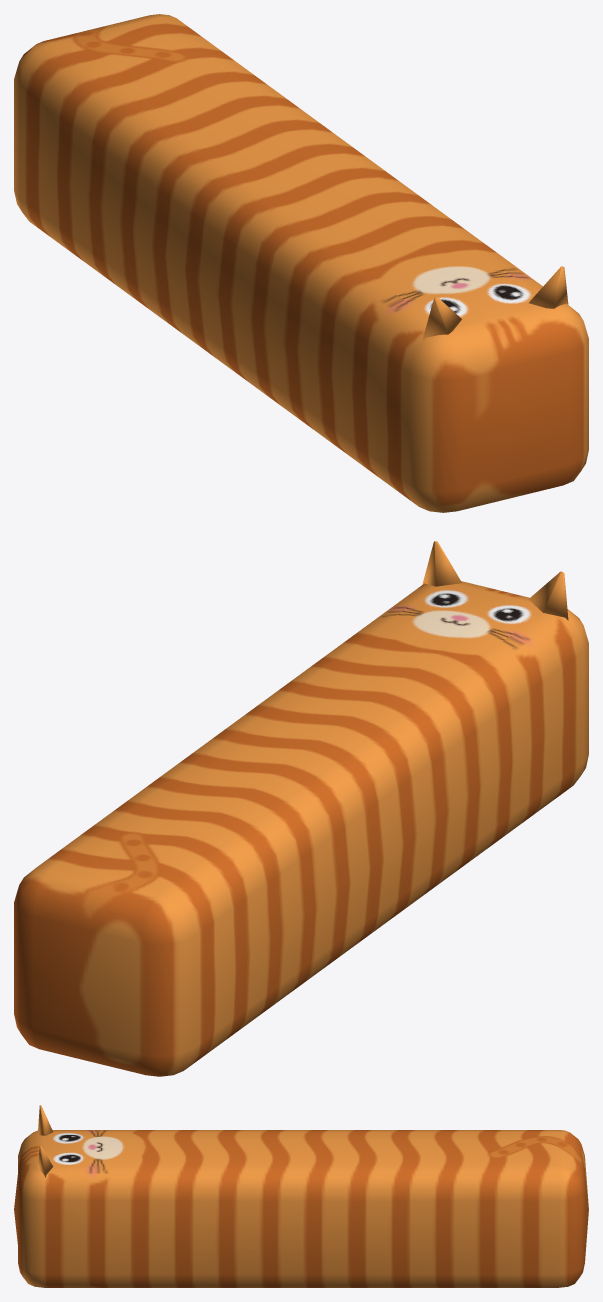
Rendered from Cat_4x1.fbx.
3 renders of one model, top to bottom at view 1: azimuth 30°, elevation 25°; view 2: azimuth 150°, elevation 25°; view 3: azimuth 270°, elevation 25°, orthographic. The views are drawn at different scales.
Visible parts, largest first — view 1: Cat_4x1; view 2: Cat_4x1; view 3: Cat_4x1.
Boxes of the visible parts, <box> form: Cat_4x1: <box>14,14,588,512</box>; Cat_4x1: <box>14,541,588,1076</box>; Cat_4x1: <box>14,1105,588,1287</box>.
Bounding box in the file's own units: 0.976 × 1.05 × 3.98.
Materials: 1 (1 with a texture image).
